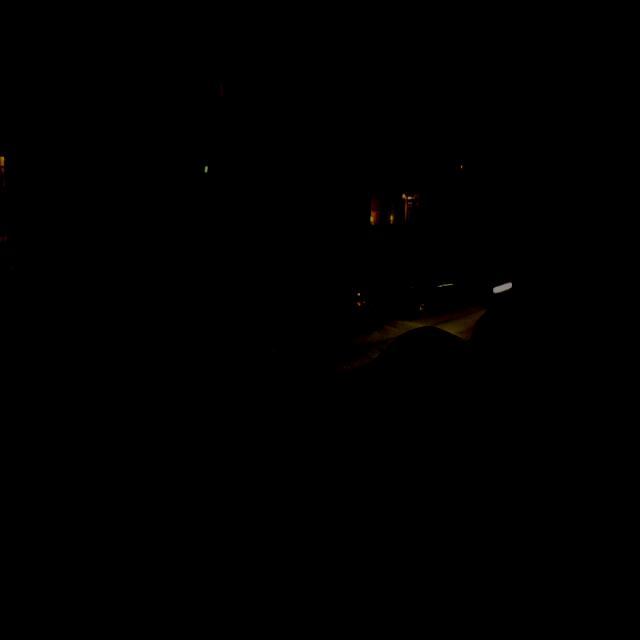Car: (159, 380, 354, 505), (351, 323, 474, 417), (142, 314, 279, 384), (275, 275, 382, 349), (385, 259, 460, 308)
